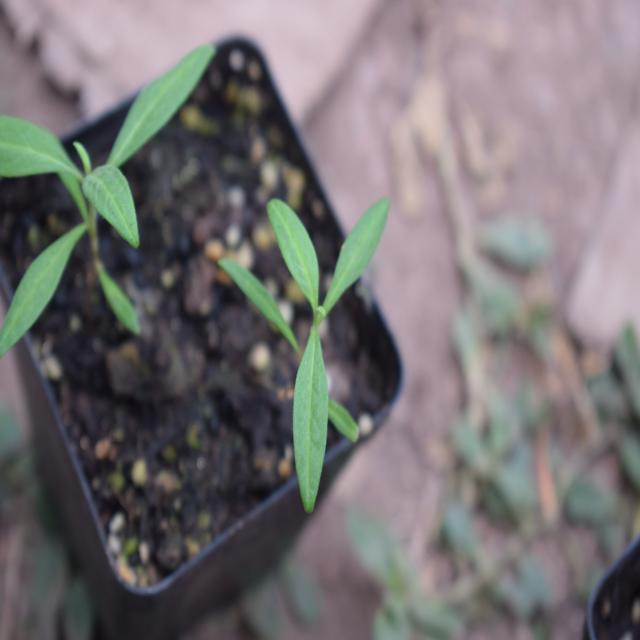white_smart_weed: (205, 175, 405, 524), (0, 47, 220, 355)
